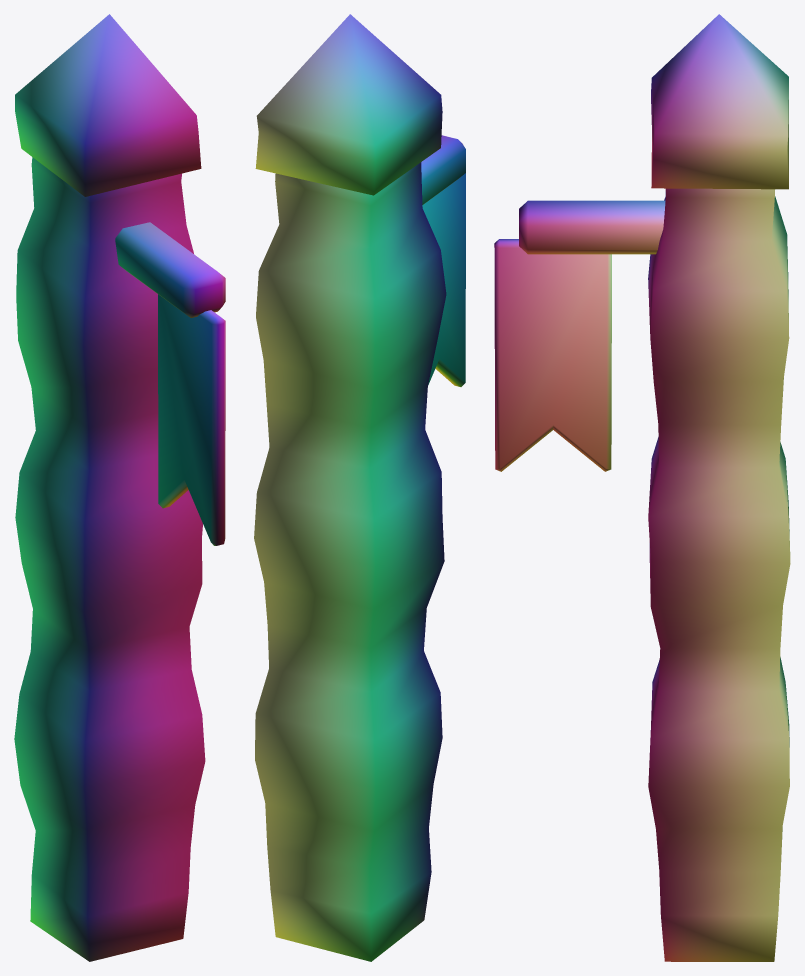
The model's file is SM_Palisade_Plains_GatePost.fbx.
3 renders of one model, left to right at view 1: azimuth 30°, elevation 25°; view 2: azimuth 150°, elevation 25°; view 3: azimuth 270°, elevation 25°, orthographic.
Visible parts, largest first — view 1: SM_Palisade_Plains_GatePost; view 2: SM_Palisade_Plains_GatePost; view 3: SM_Palisade_Plains_GatePost.
Part boxes in pixels (bbox=[...]): SM_Palisade_Plains_GatePost: bbox=[14, 14, 225, 961]; SM_Palisade_Plains_GatePost: bbox=[254, 14, 465, 961]; SM_Palisade_Plains_GatePost: bbox=[494, 14, 790, 961].
Size of the model in its own units: 0.2918 by 2.09 by 0.6064.
